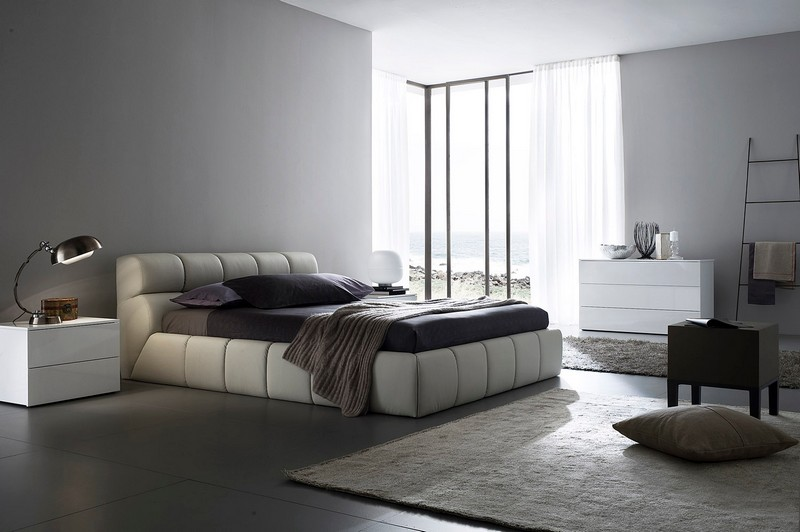bed: (114, 246, 563, 416)
lamp: (13, 232, 105, 329)
stool: (574, 253, 718, 341)
table: (668, 314, 781, 419), (1, 319, 123, 408)
